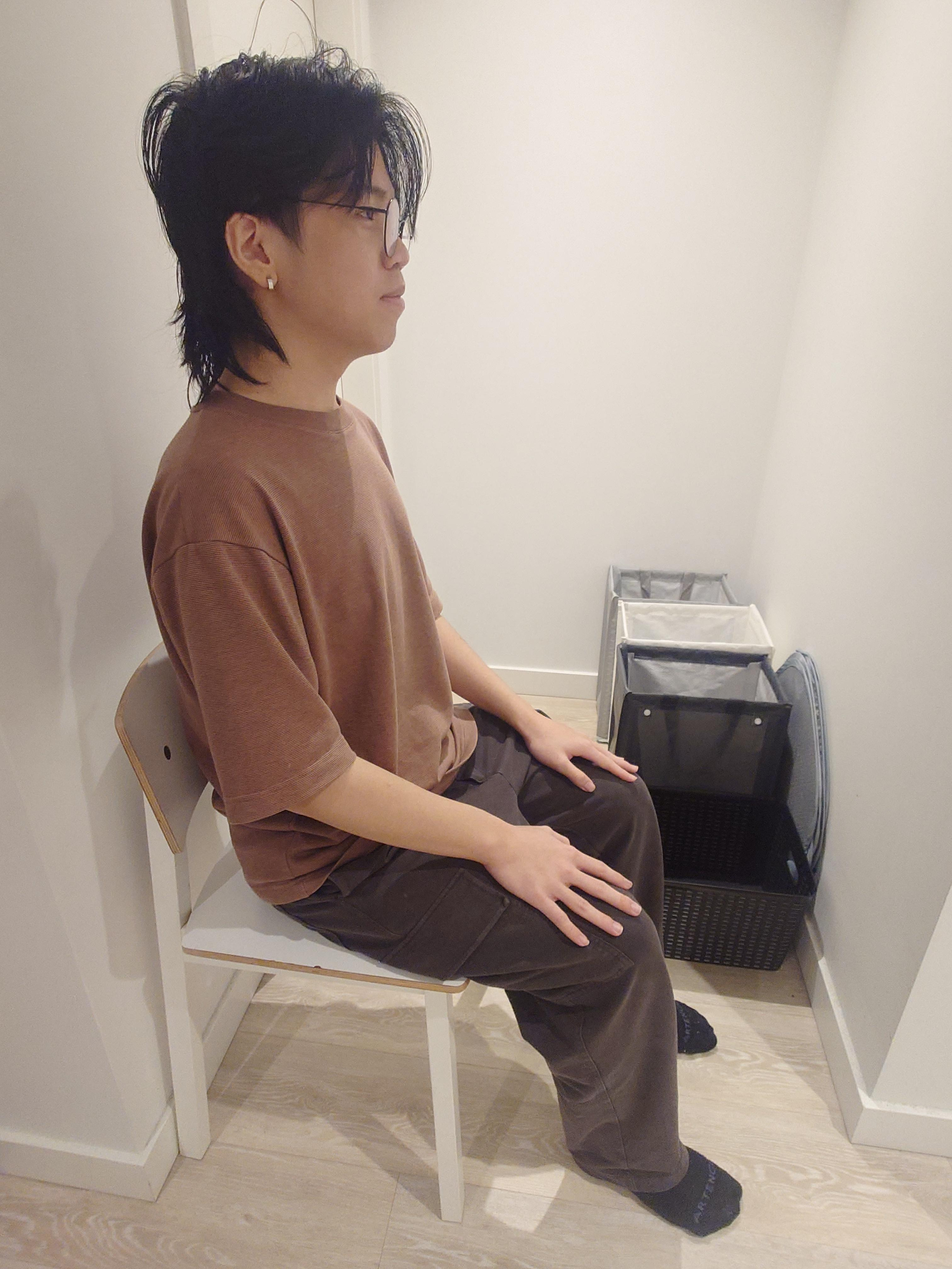GoodPosture: (139, 47, 742, 1239)
